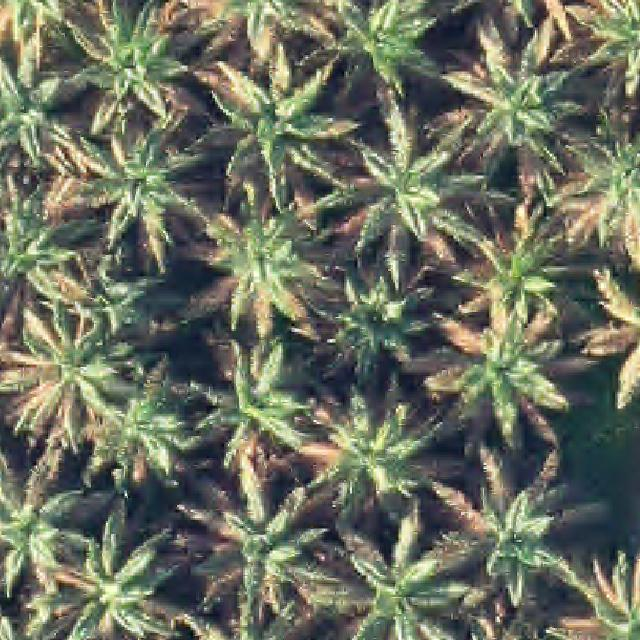oilpalm: (414, 448, 592, 603), (179, 459, 334, 626), (441, 14, 573, 174), (300, 374, 436, 523), (5, 289, 136, 440), (424, 299, 563, 439), (332, 117, 468, 258), (194, 185, 328, 327), (198, 54, 333, 192), (191, 329, 321, 467), (59, 0, 195, 129), (42, 524, 189, 640), (302, 250, 430, 382), (448, 194, 569, 326), (69, 124, 192, 253), (73, 364, 186, 490), (304, 0, 450, 96), (322, 534, 450, 640), (0, 464, 84, 595)
